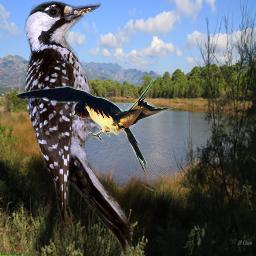Swallow: (12, 78, 197, 175)
Woodpecker: (22, 1, 131, 254)
